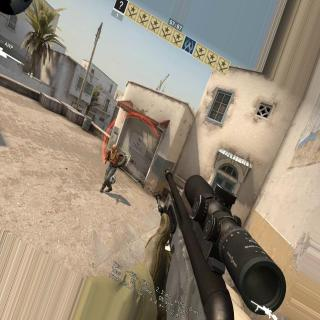T-Body: (101, 140, 123, 193)
T-Head: (112, 145, 117, 153)
